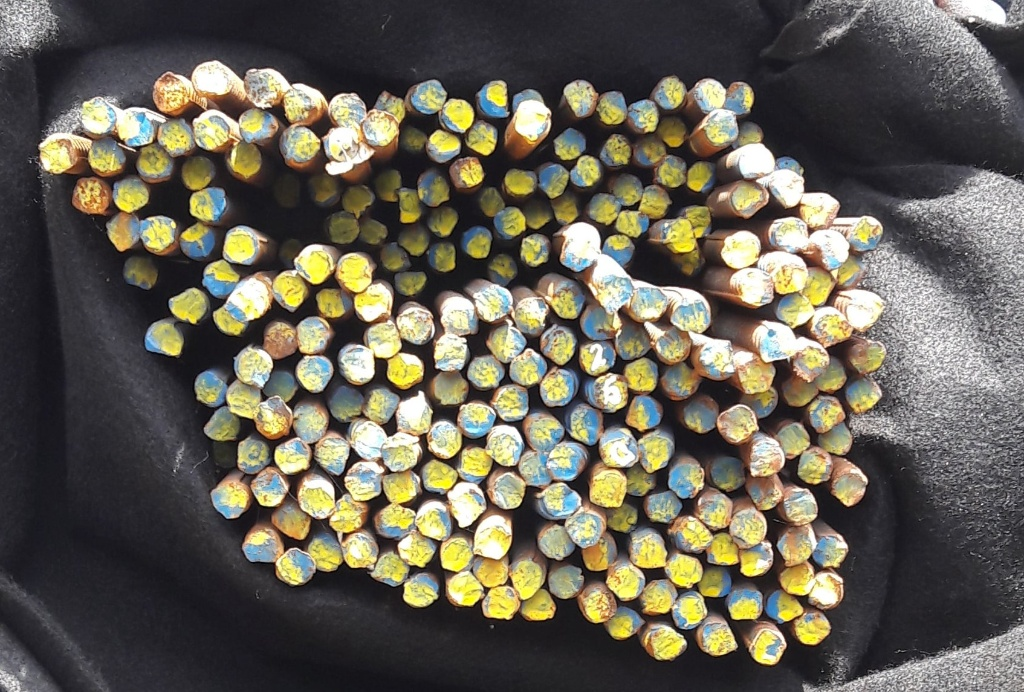dipstick: (561, 223, 601, 269), (295, 244, 334, 285), (275, 549, 316, 588), (777, 525, 816, 566), (382, 432, 421, 472), (255, 396, 291, 439), (450, 483, 485, 527), (718, 404, 758, 442), (398, 391, 432, 435), (195, 110, 231, 151), (731, 181, 769, 219), (152, 73, 189, 112), (245, 70, 282, 109), (223, 225, 259, 265), (375, 504, 415, 540), (386, 353, 424, 390), (272, 504, 310, 541), (475, 522, 512, 560), (738, 356, 775, 394), (515, 100, 551, 139), (230, 281, 266, 320), (363, 385, 399, 424), (351, 422, 387, 461), (721, 230, 760, 266), (280, 127, 321, 161), (89, 138, 126, 175), (146, 321, 183, 358), (441, 299, 478, 336), (210, 483, 247, 520), (158, 118, 194, 156), (730, 510, 766, 548), (847, 295, 885, 331), (284, 84, 319, 123), (337, 253, 372, 292), (168, 289, 207, 324), (551, 281, 586, 320), (581, 305, 621, 339), (672, 590, 706, 630), (40, 137, 77, 173), (72, 178, 109, 214), (314, 438, 350, 475), (446, 571, 483, 607), (590, 471, 627, 507), (293, 404, 328, 442), (607, 606, 645, 641), (582, 533, 617, 571), (564, 79, 598, 118), (813, 313, 853, 346), (244, 530, 285, 562), (345, 464, 381, 500), (813, 231, 849, 267), (82, 97, 117, 134), (274, 438, 311, 473), (475, 286, 512, 321), (566, 514, 603, 549), (639, 436, 674, 473), (697, 493, 732, 530), (784, 489, 819, 526), (760, 325, 795, 362), (398, 533, 436, 567), (671, 300, 710, 333), (702, 339, 735, 378), (272, 272, 304, 312), (228, 378, 260, 418), (648, 629, 688, 661), (118, 109, 153, 145), (140, 216, 176, 251), (203, 260, 238, 296), (616, 323, 651, 359), (662, 364, 698, 399), (342, 534, 378, 569), (417, 505, 452, 541), (539, 525, 575, 560), (601, 432, 637, 467), (750, 439, 785, 475), (775, 423, 810, 459), (809, 397, 844, 433), (235, 350, 272, 384), (488, 327, 525, 361), (593, 374, 627, 411), (802, 195, 839, 229), (239, 110, 277, 143), (599, 274, 632, 312), (330, 495, 363, 533), (804, 267, 835, 307), (364, 110, 399, 145), (297, 356, 332, 391), (180, 222, 214, 258), (397, 309, 433, 343), (510, 351, 546, 385), (541, 370, 575, 406), (308, 536, 342, 572), (372, 551, 408, 585), (813, 534, 849, 568), (669, 464, 705, 498), (832, 473, 868, 507), (794, 346, 828, 382), (738, 271, 774, 305), (773, 257, 807, 293), (368, 322, 401, 359), (330, 385, 363, 422), (250, 474, 287, 507), (189, 188, 227, 220), (343, 346, 375, 384), (515, 297, 547, 335), (543, 484, 581, 516), (114, 179, 149, 213), (331, 93, 366, 127), (193, 371, 227, 406), (581, 341, 615, 376), (529, 417, 563, 452), (403, 574, 438, 608), (751, 631, 786, 665), (748, 477, 783, 511), (711, 457, 745, 492), (683, 397, 718, 431), (847, 378, 881, 413), (135, 146, 171, 179), (325, 128, 361, 161), (428, 422, 461, 458), (459, 405, 495, 438), (609, 567, 645, 600), (667, 555, 703, 588), (702, 623, 738, 656), (676, 519, 712, 552), (548, 445, 580, 482), (633, 287, 667, 321), (458, 448, 492, 482), (193, 62, 228, 95), (205, 407, 240, 440), (432, 371, 467, 404), (694, 78, 727, 113), (542, 329, 575, 364), (422, 461, 457, 494), (484, 587, 519, 620), (521, 589, 556, 622), (632, 534, 667, 567), (795, 613, 830, 646), (808, 576, 843, 609), (817, 422, 852, 455), (435, 334, 467, 370), (654, 74, 686, 110), (468, 356, 504, 388), (298, 486, 334, 518), (767, 591, 803, 623), (778, 295, 814, 327), (549, 567, 583, 600), (797, 451, 831, 484), (740, 144, 774, 177), (413, 79, 445, 114), (418, 171, 450, 206), (398, 221, 430, 256), (238, 439, 270, 474), (647, 491, 682, 523), (783, 375, 818, 407), (776, 218, 808, 253), (775, 169, 803, 208), (309, 174, 342, 207), (264, 325, 297, 358), (705, 110, 738, 143), (639, 186, 672, 219), (495, 387, 528, 420), (658, 329, 691, 362), (355, 288, 389, 320), (587, 193, 621, 225), (441, 537, 473, 571), (642, 580, 676, 612), (851, 216, 883, 250), (511, 561, 542, 596), (572, 408, 602, 444), (494, 472, 524, 508), (817, 356, 846, 393), (611, 174, 643, 207), (182, 158, 216, 189), (231, 143, 262, 177), (450, 158, 484, 189), (539, 163, 570, 197), (520, 452, 551, 486), (781, 564, 815, 595), (739, 544, 773, 575), (298, 318, 328, 353), (628, 99, 658, 134), (524, 196, 554, 231), (479, 80, 508, 116), (316, 288, 352, 317), (850, 343, 886, 372), (494, 206, 526, 238), (706, 534, 739, 565), (671, 244, 704, 275), (597, 90, 627, 124), (473, 557, 508, 586), (327, 212, 358, 244), (634, 135, 665, 167), (489, 435, 521, 466), (467, 122, 497, 155), (263, 371, 296, 401), (553, 129, 586, 159), (583, 592, 616, 622), (605, 504, 638, 534), (725, 81, 754, 115), (376, 91, 406, 123), (429, 207, 459, 239), (701, 566, 731, 598), (444, 99, 473, 132), (427, 133, 460, 162), (658, 155, 687, 188), (684, 205, 713, 238), (627, 359, 656, 392), (602, 134, 630, 168), (604, 236, 635, 266), (570, 157, 602, 186), (504, 167, 537, 195), (730, 591, 763, 619), (380, 242, 411, 271), (463, 227, 491, 259), (551, 191, 578, 224), (490, 254, 517, 286), (617, 211, 650, 237), (627, 467, 656, 496), (343, 185, 373, 213), (688, 161, 715, 192), (670, 219, 696, 251), (375, 169, 401, 200), (522, 235, 548, 266), (397, 189, 422, 221), (214, 308, 243, 335), (429, 242, 455, 272), (395, 271, 426, 296), (660, 116, 685, 147), (359, 218, 388, 244), (400, 124, 427, 151), (480, 187, 504, 217), (514, 89, 544, 112), (777, 156, 804, 176), (739, 122, 763, 143)
